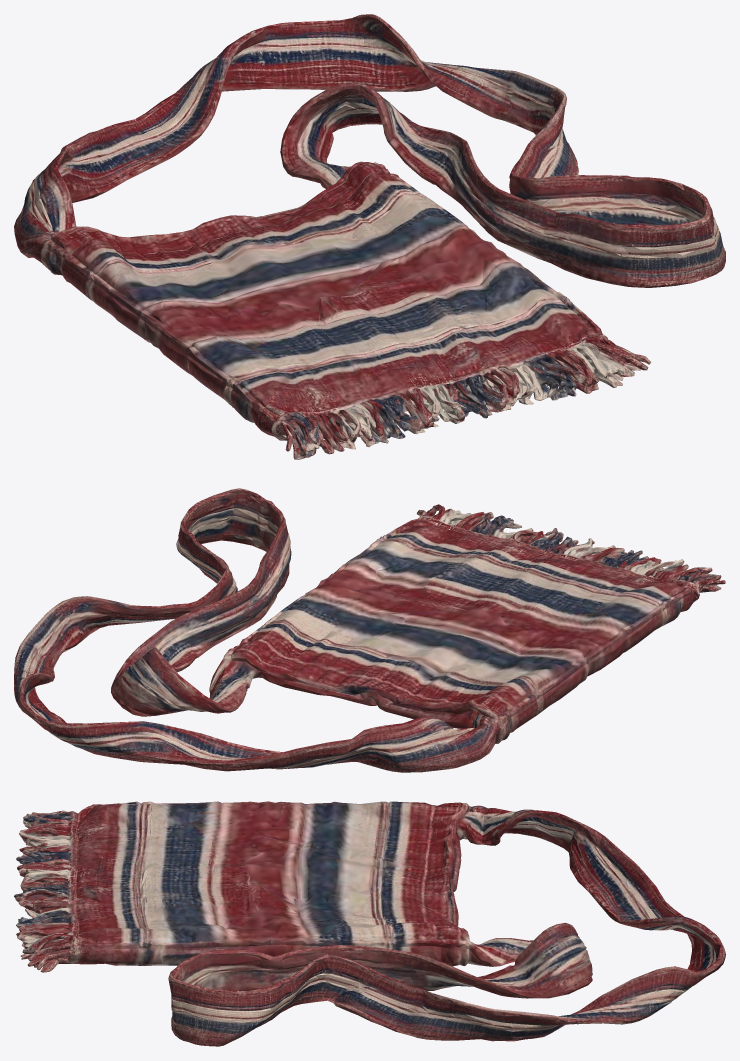
The model's file is e4yaam.glb.
3 views of the same model, one above another, from view 1: azimuth 30°, elevation 25°; view 2: azimuth 150°, elevation 25°; view 3: azimuth 270°, elevation 25° (orthographic). The views are drawn at different scales.
Visible parts, largest first — view 1: output_unwrapped; view 2: output_unwrapped; view 3: output_unwrapped.
Part boxes in pixels (bbox=[...]): output_unwrapped: bbox=[14, 14, 725, 459]; output_unwrapped: bbox=[14, 488, 725, 772]; output_unwrapped: bbox=[14, 801, 725, 1046].
Bounding box in the file's own units: 0.4479 × 0.0497 × 0.6.
1 material, 1 textured.
